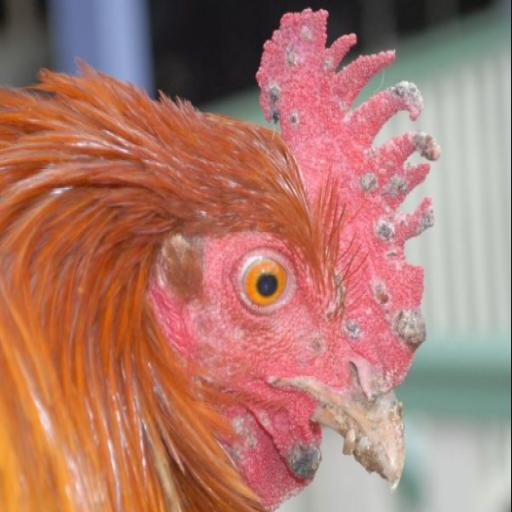disease: (307, 162, 442, 486), (248, 1, 465, 193), (231, 394, 341, 506)
